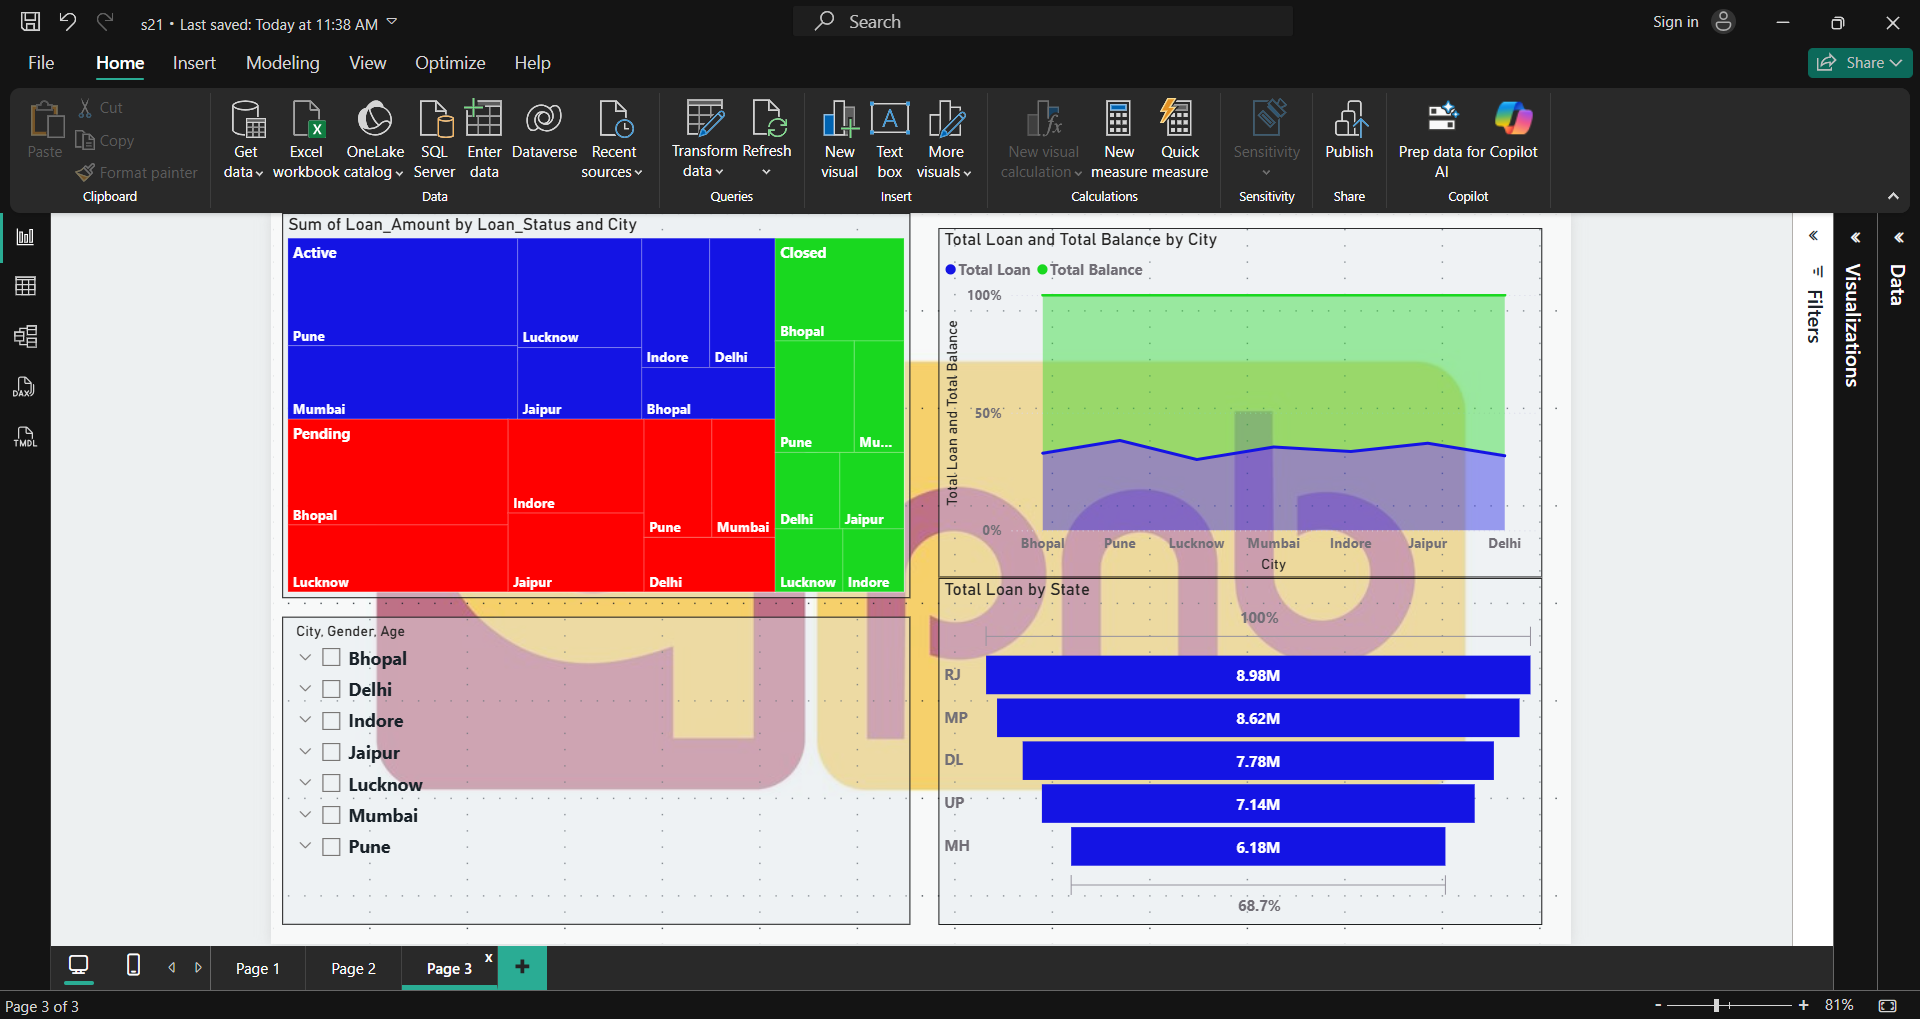

This screenshot's page, from the dashboard's own definition file:
{"tool":"powerbi","page":{"name":"Page 3","canvas":[1280,720],"ordinal":2},"visuals":[{"type":"treemap","fields":{"Group":["bank_data.Loan_Status"],"Details":["bank_data.City"],"Values":["Sum(bank_data.Loan_Amount)"]},"box":[10.7,0,618.7,379.4],"z":0},{"type":"hundredPercentStackedAreaChart","fields":{"Category":["bank_data.City"],"Y":["bank_data.Total Loan","bank_data.Total Balance"]},"box":[656.8,15.2,594.3,344.4],"z":1},{"type":"funnel","fields":{"Category":["bank_data.State"],"Y":["bank_data.Total Loan"]},"box":[656.8,359.6,594.3,341.3],"z":2},{"type":"slicer","fields":{"Values":["bank_data.City","bank_data.Gender","bank_data.Age"]},"box":[10.7,397.7,618.7,303.2],"z":3}]}

Visuals, with their boxes on the page's 1280x720 design canvas (x1, y1, x2, y2). These are canvas units, not pixel positions in the 1920x1019 screenshot, which may show the page scaled, cropped or inside an application window:
treemap - bank_data.Loan_Status x bank_data.City: 11 0 629 379
hundredPercentStackedAreaChart - bank_data.City x bank_data.Total Loan: 657 15 1251 360
funnel - bank_data.State x bank_data.Total Loan: 657 360 1251 701
slicer - bank_data.City x bank_data.Gender: 11 398 629 701
